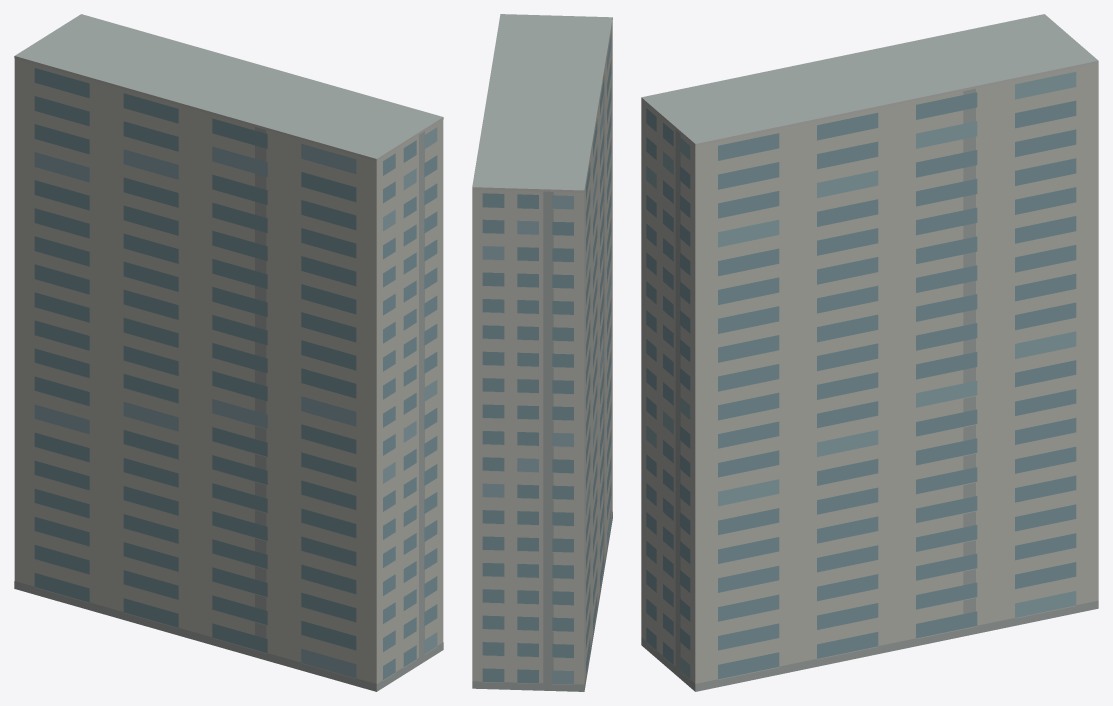
Rendered from residential-62a57e9c-d11f-4738-9138-0dff8facf591.glb.
The picture shows the model from 3 angles, left to right: view 1: azimuth 30°, elevation 25°; view 2: azimuth 150°, elevation 25°; view 3: azimuth 270°, elevation 25°; orthographic projection. The views are drawn at different scales.
Parts seen in each view (by area): view 1: residential-62a57e9c-d11f-4738-9138-0dff8facf591.tmp; view 2: residential-62a57e9c-d11f-4738-9138-0dff8facf591.tmp; view 3: residential-62a57e9c-d11f-4738-9138-0dff8facf591.tmp.
Part boxes in pixels (x1=…): residential-62a57e9c-d11f-4738-9138-0dff8facf591.tmp: x1=14, y1=14, x2=443, y2=691; residential-62a57e9c-d11f-4738-9138-0dff8facf591.tmp: x1=472, y1=14, x2=612, y2=691; residential-62a57e9c-d11f-4738-9138-0dff8facf591.tmp: x1=641, y1=14, x2=1098, y2=691.
Bounding box in the file's own units: 26.47 × 52 × 39.34.
